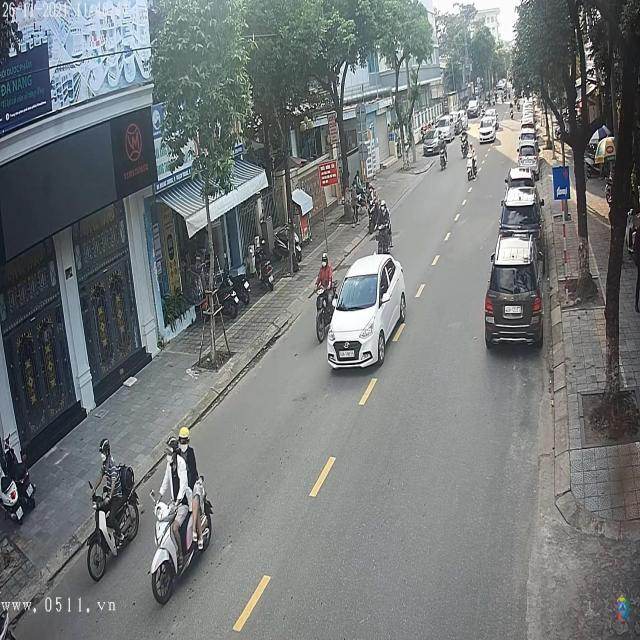car: (327, 254, 407, 372), (486, 236, 542, 348), (501, 182, 541, 239), (478, 114, 500, 144), (518, 145, 539, 169), (468, 99, 481, 118)
motorcycle: (150, 494, 215, 610), (85, 491, 141, 586), (314, 285, 336, 344), (466, 153, 478, 185)
